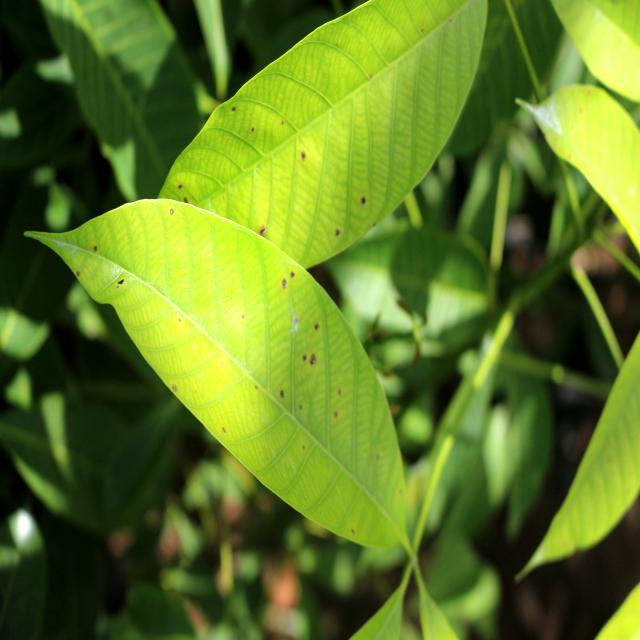Colletotrichum: (310, 355, 316, 364), (170, 208, 174, 215), (76, 271, 80, 276)
